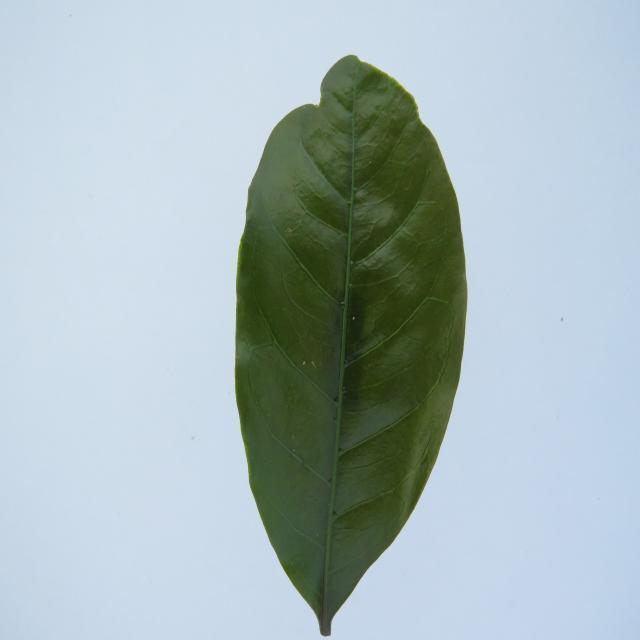DeficienciaNutricional-Boro: (235, 57, 466, 635)
